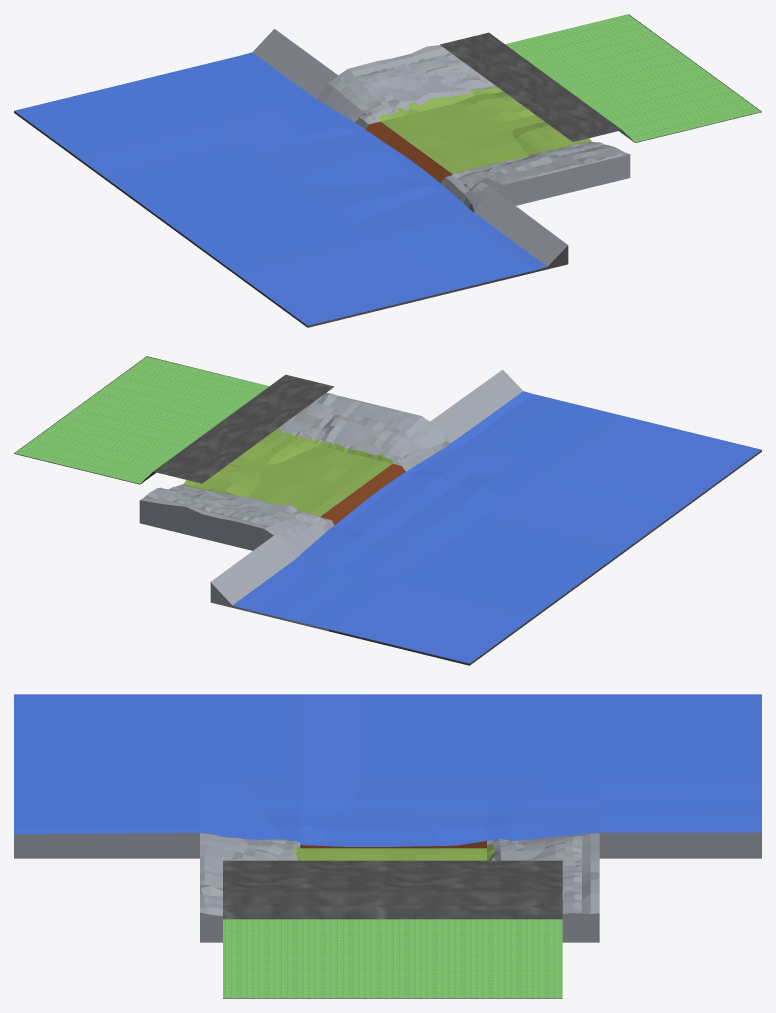
The model's file is Camp.fbx.
3 renders of one model, top to bottom at view 1: azimuth 30°, elevation 25°; view 2: azimuth 150°, elevation 25°; view 3: azimuth 270°, elevation 25°, orthographic. The views are drawn at different scales.
Parts seen in each view (by area): view 1: Cube, Terrain; view 2: Cube, Terrain; view 3: Cube, Terrain.
Boxes of the visible parts, <box> form: Cube: <box>14,29,630,327</box>; Terrain: <box>440,14,761,142</box>; Cube: <box>139,369,761,665</box>; Terrain: <box>14,356,334,484</box>; Cube: <box>14,694,761,942</box>; Terrain: <box>223,860,562,998</box>.
Bounding box in the file's own units: 15520 × 1132 × 14725.
